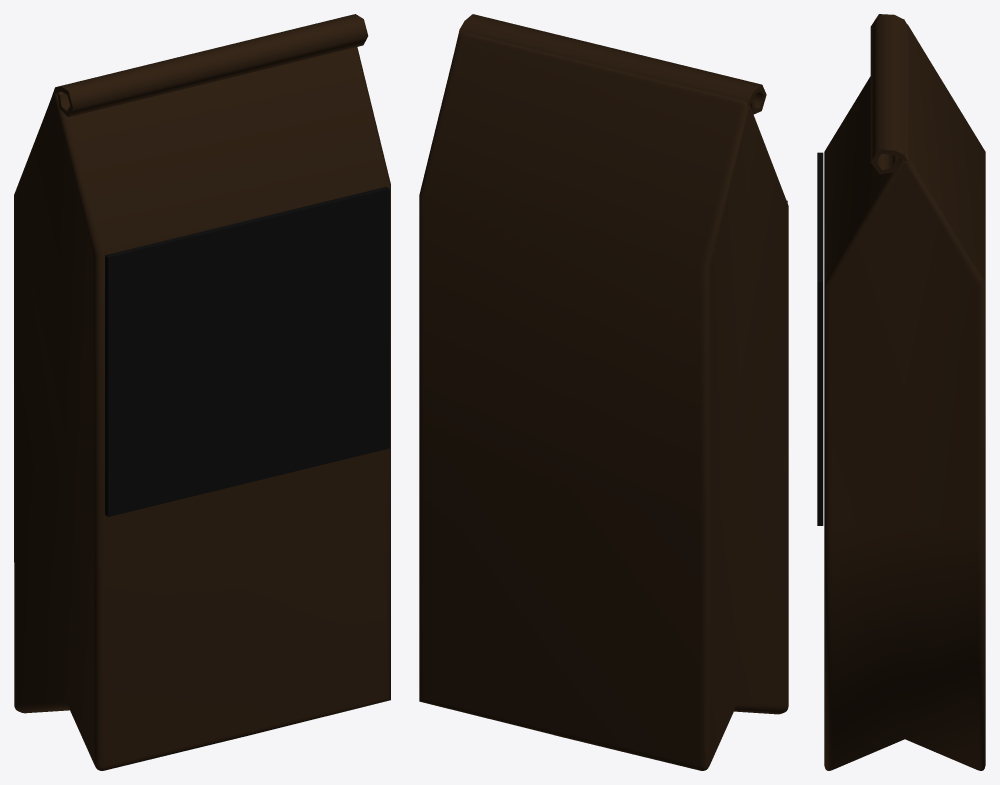
File: coffee.fbx
The picture shows the model from 3 angles, left to right: view 1: azimuth 30°, elevation 25°; view 2: azimuth 150°, elevation 25°; view 3: azimuth 270°, elevation 25°; orthographic projection. The views are drawn at different scales.
Parts seen in each view (by area): view 1: Box001, Object001; view 2: Box001; view 3: Box001, Object001.
Part boxes in pixels (bbox=[...]): Box001: bbox=[14, 14, 390, 770]; Object001: bbox=[105, 186, 389, 516]; Box001: bbox=[419, 14, 788, 770]; Box001: bbox=[824, 14, 985, 770]; Object001: bbox=[817, 152, 823, 525].
Bounding box in the file's own units: 2.99 × 6.39 × 1.56.
